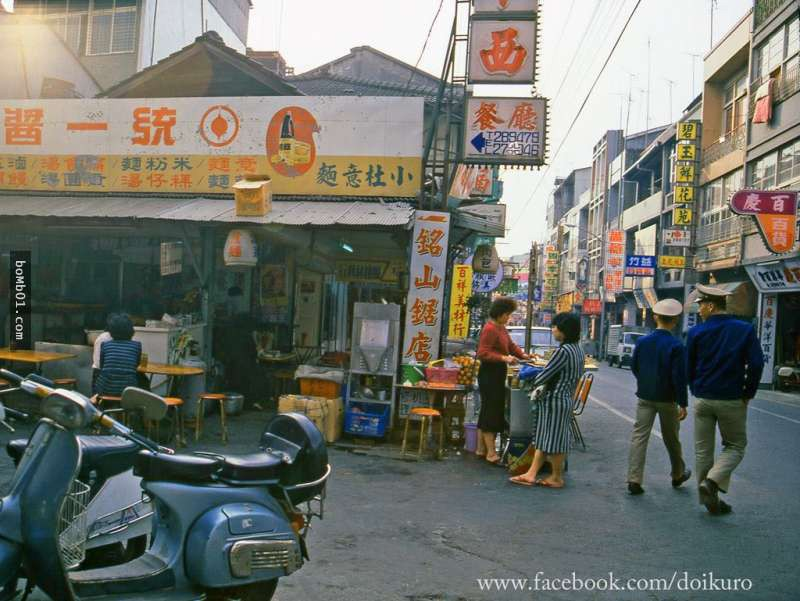people: (684, 277, 748, 508), (635, 296, 691, 494), (530, 308, 577, 488), (472, 290, 513, 469), (97, 314, 153, 399)
